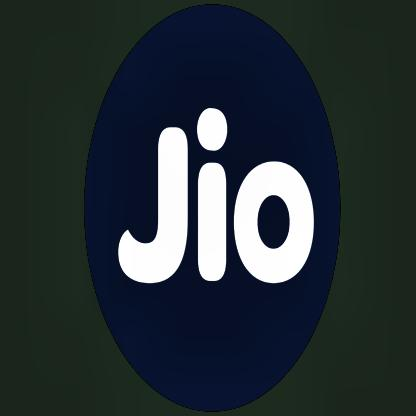Jio: (84, 3, 343, 416)
